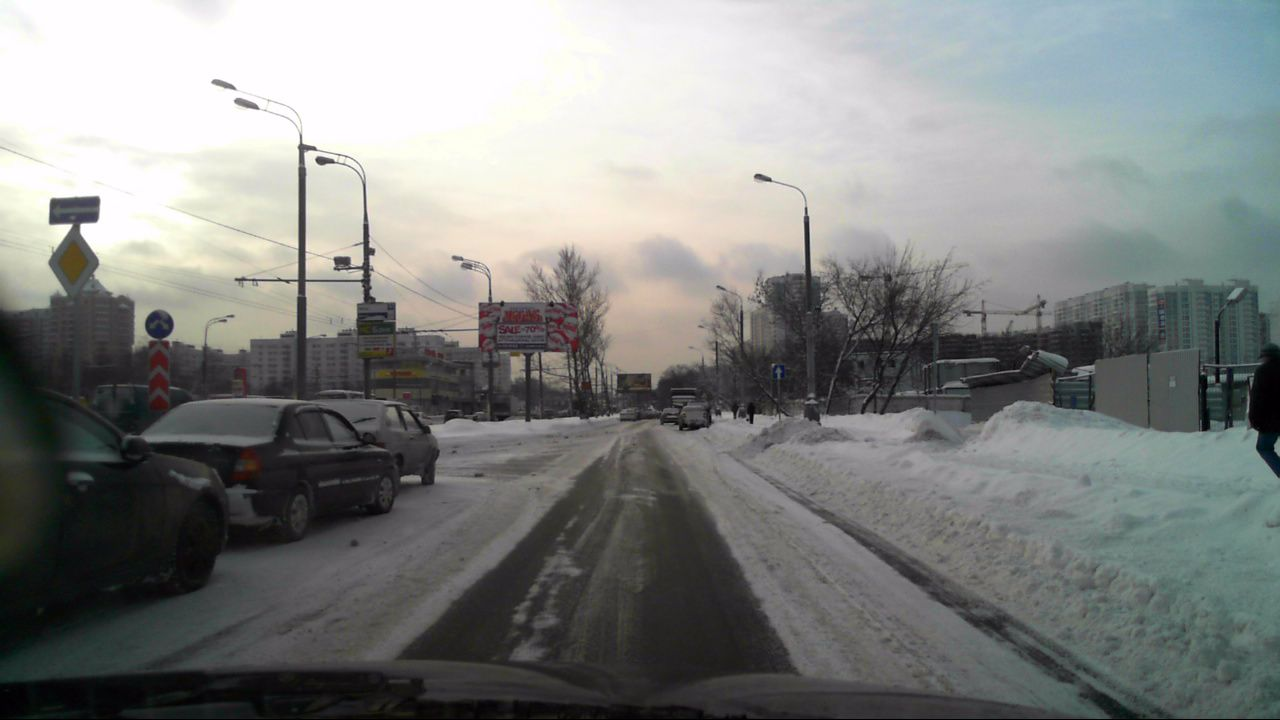One-Way Traffic: (49, 196, 100, 225)
